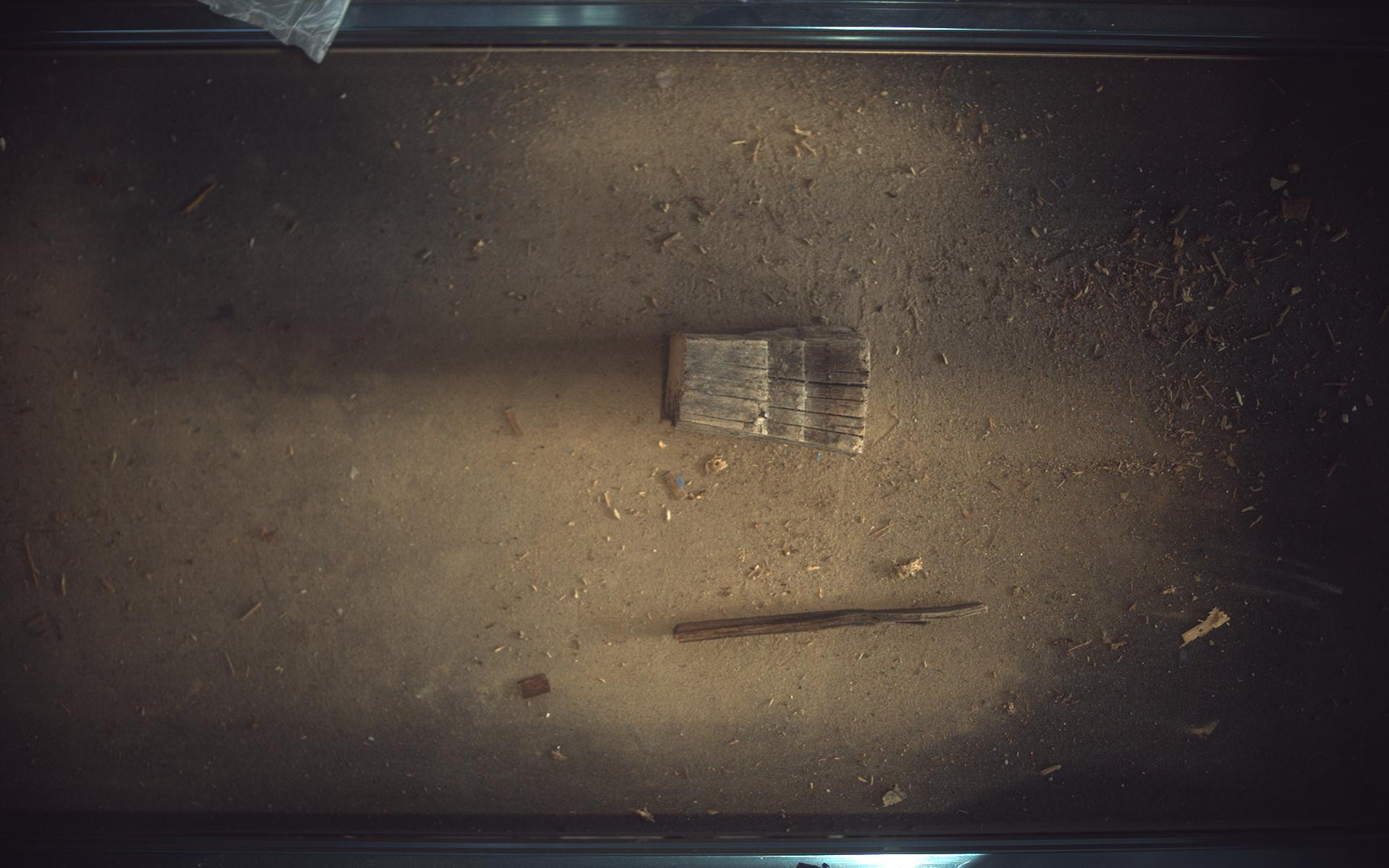wood: (664, 326, 872, 455), (674, 603, 990, 643)
